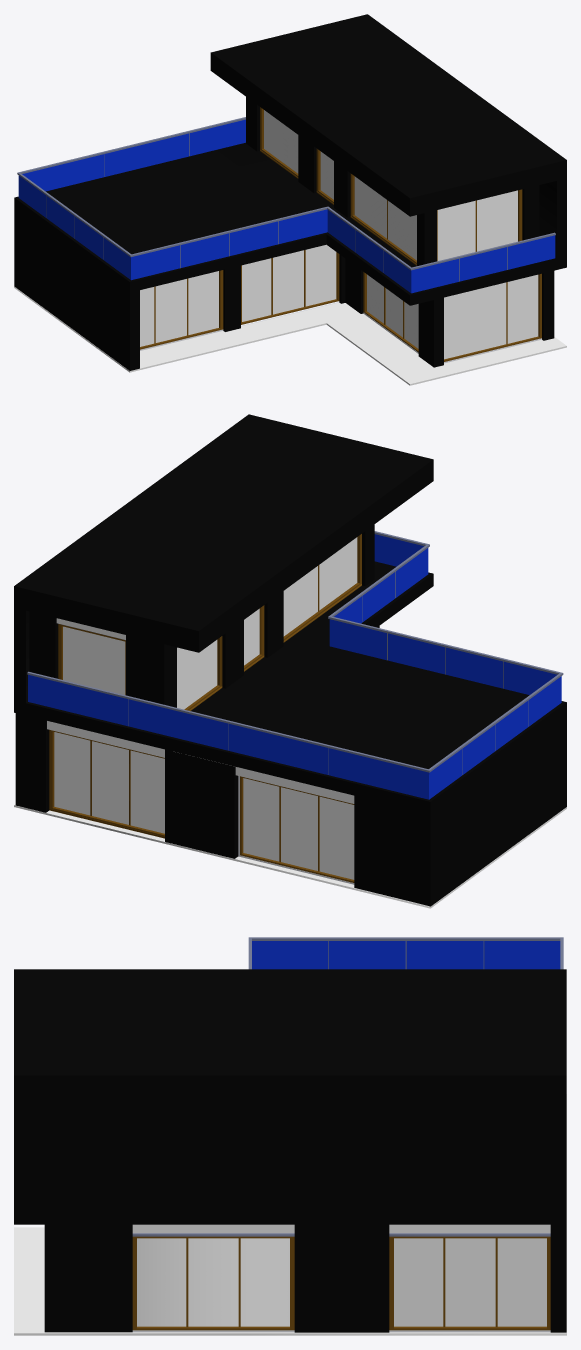
File: SM_B_Abraham_roof.fbx
The picture shows the model from 3 angles, top to bottom: view 1: azimuth 30°, elevation 25°; view 2: azimuth 150°, elevation 25°; view 3: azimuth 270°, elevation 25°; orthographic projection. The views are drawn at different scales.
Parts seen in each view (by area): view 1: SM_B_Abraham_roof; view 2: SM_B_Abraham_roof; view 3: SM_B_Abraham_roof.
Boxes of the visible parts, bbox=[...] form: SM_B_Abraham_roof: bbox=[14, 14, 566, 385]; SM_B_Abraham_roof: bbox=[14, 414, 566, 908]; SM_B_Abraham_roof: bbox=[14, 937, 566, 1335].
Bounding box in the file's own units: 1411 × 715 × 1378.
